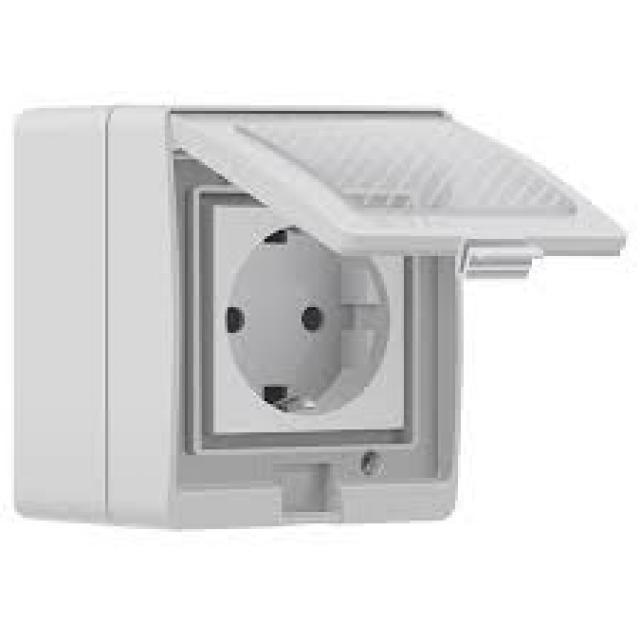typeb: (5, 58, 620, 574)
